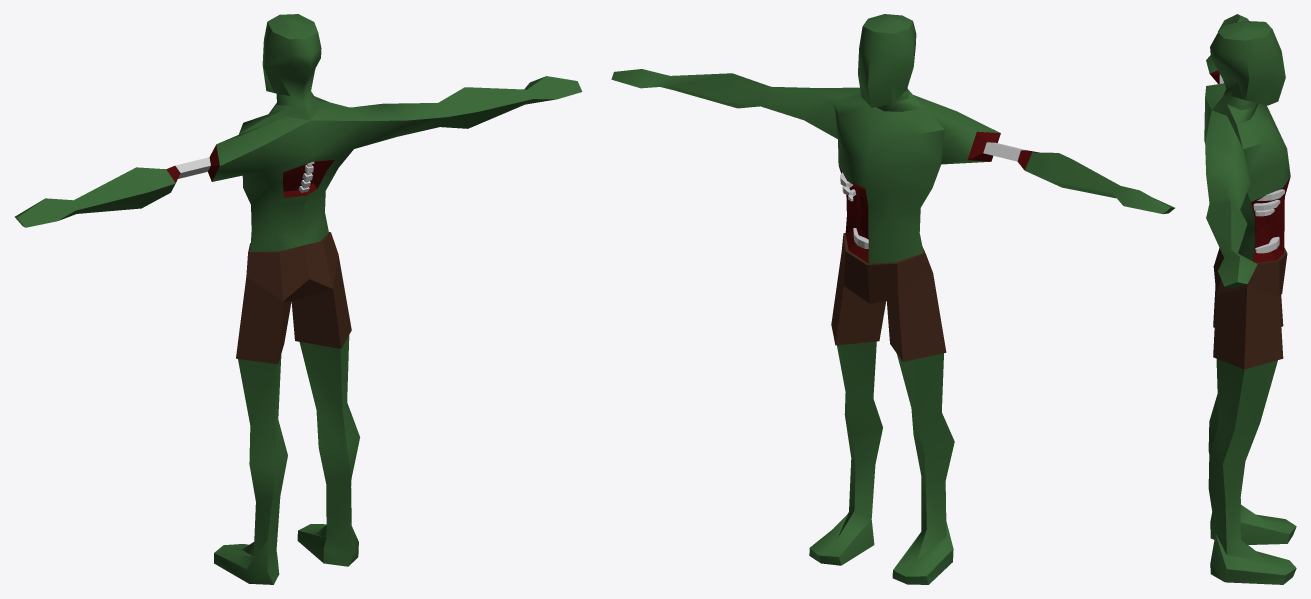
Rendered from zombie.obj.
3 renders of one model, left to right at view 1: azimuth 30°, elevation 25°; view 2: azimuth 150°, elevation 25°; view 3: azimuth 270°, elevation 25°, orthographic. The views are drawn at different scales.
Parts seen in each view (by area): view 1: BASE_Low_Poly_Man_0, BASE_Low_Poly_Man_1, BASE_Low_Poly_Man_2, BASE_Low_Poly_Man_3; view 2: BASE_Low_Poly_Man_0, BASE_Low_Poly_Man_1, BASE_Low_Poly_Man_2; view 3: BASE_Low_Poly_Man_0, BASE_Low_Poly_Man_1, BASE_Low_Poly_Man_2, BASE_Low_Poly_Man.001_0.
Part boxes in pixels (left/top/right/bottom): BASE_Low_Poly_Man_0: left=15, top=14, right=582, bottom=584; BASE_Low_Poly_Man_1: left=236, top=232, right=351, bottom=363; BASE_Low_Poly_Man_2: left=166, top=145, right=334, bottom=197; BASE_Low_Poly_Man_3: left=175, top=157, right=314, bottom=192; BASE_Low_Poly_Man_0: left=611, top=14, right=1174, bottom=584; BASE_Low_Poly_Man_1: left=831, top=233, right=946, bottom=361; BASE_Low_Poly_Man_2: left=839, top=131, right=1039, bottom=263; BASE_Low_Poly_Man_0: left=1204, top=14, right=1296, bottom=584; BASE_Low_Poly_Man_1: left=1213, top=247, right=1287, bottom=369; BASE_Low_Poly_Man_2: left=1210, top=70, right=1290, bottom=262; BASE_Low_Poly_Man.001_0: left=1253, top=189, right=1284, bottom=253.
Bounding box in the file's own units: 4 × 3.7 × 0.5827.
